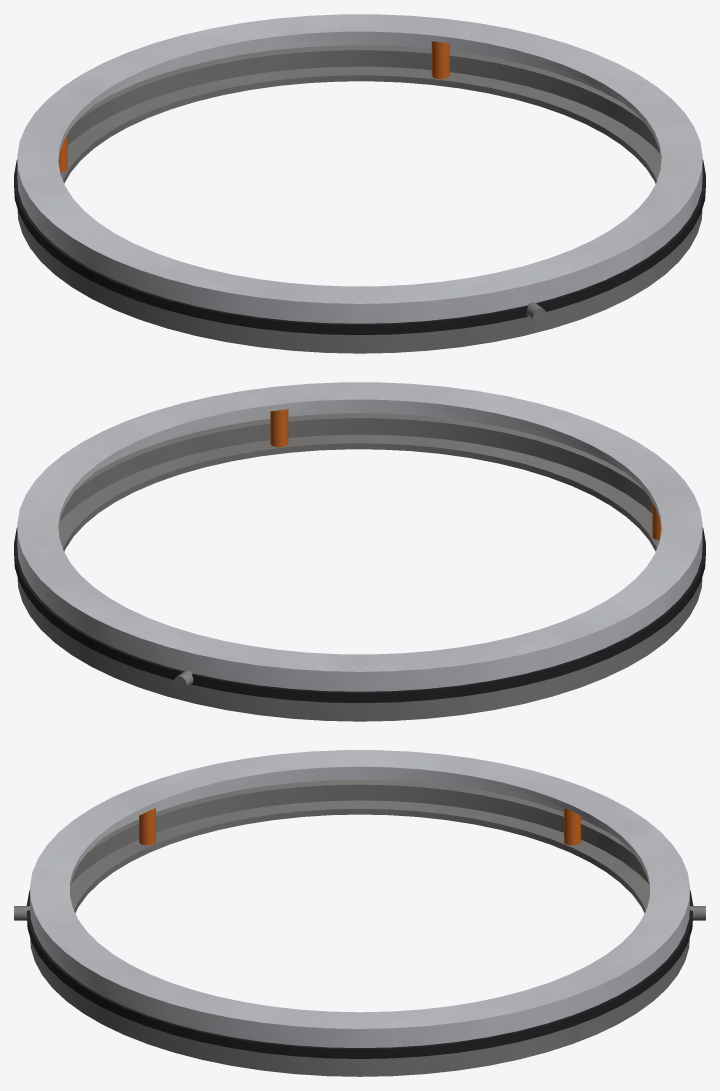
Rendered from stage14_clamp_band_separator_m.glb.
The picture shows the model from 3 angles, top to bottom: view 1: azimuth 30°, elevation 25°; view 2: azimuth 150°, elevation 25°; view 3: azimuth 270°, elevation 25°; orthographic projection. The views are drawn at different scales.
Visible parts, largest first — view 1: half_b_ring, lower_ring, clamp_band, springs; view 2: half_b_ring, lower_ring, clamp_band, springs; view 3: half_b_ring, lower_ring, clamp_band, springs.
Boxes of the visible parts, bbox=[...] form: half_b_ring: bbox=[17, 14, 702, 323]; lower_ring: bbox=[17, 45, 702, 353]; clamp_band: bbox=[14, 159, 705, 334]; springs: bbox=[58, 41, 449, 172]; half_b_ring: bbox=[17, 382, 702, 691]; lower_ring: bbox=[17, 413, 702, 721]; clamp_band: bbox=[14, 527, 705, 702]; springs: bbox=[270, 409, 661, 540]; half_b_ring: bbox=[30, 750, 689, 1047]; lower_ring: bbox=[30, 780, 689, 1076]; clamp_band: bbox=[26, 890, 693, 1058]; springs: bbox=[139, 808, 580, 845].
Size of the model in its own units: 2.52 by 0.2 by 2.62.
Materials: 4 (2 with a texture image).
